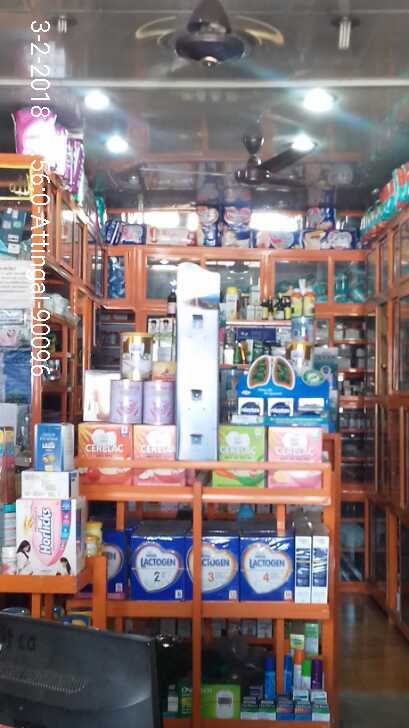reject: (136, 288, 236, 390)
